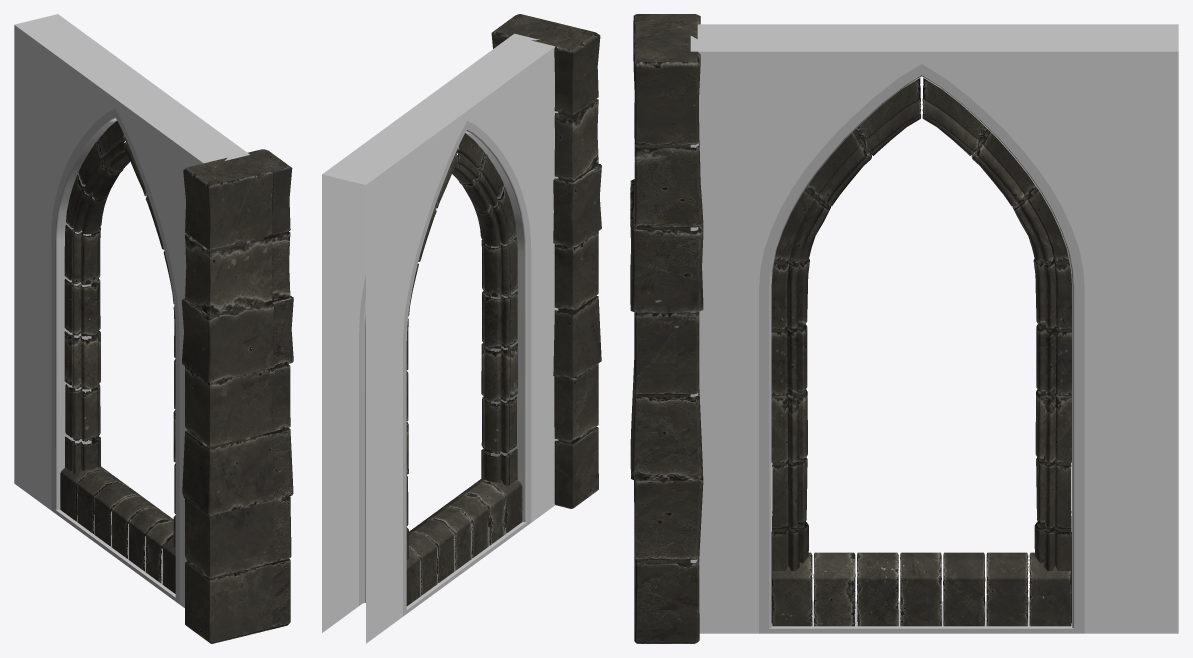
The picture shows the model from 3 angles, left to right: view 1: azimuth 30°, elevation 25°; view 2: azimuth 150°, elevation 25°; view 3: azimuth 270°, elevation 25°; orthographic projection. The views are drawn at different scales.
Visible parts, largest first — view 1: SM_Greathall_Wall_8x10_02_LOD0; view 2: SM_Greathall_Wall_8x10_02_LOD0; view 3: SM_Greathall_Wall_8x10_02_LOD0.
Part boxes in pixels (x1=…): SM_Greathall_Wall_8x10_02_LOD0: x1=14, y1=14, x2=293, y2=643; SM_Greathall_Wall_8x10_02_LOD0: x1=322, y1=14, x2=601, y2=643; SM_Greathall_Wall_8x10_02_LOD0: x1=630, y1=14, x2=1178, y2=643.
Bounding box in the file's own units: 1.99 × 10 × 8.54.
